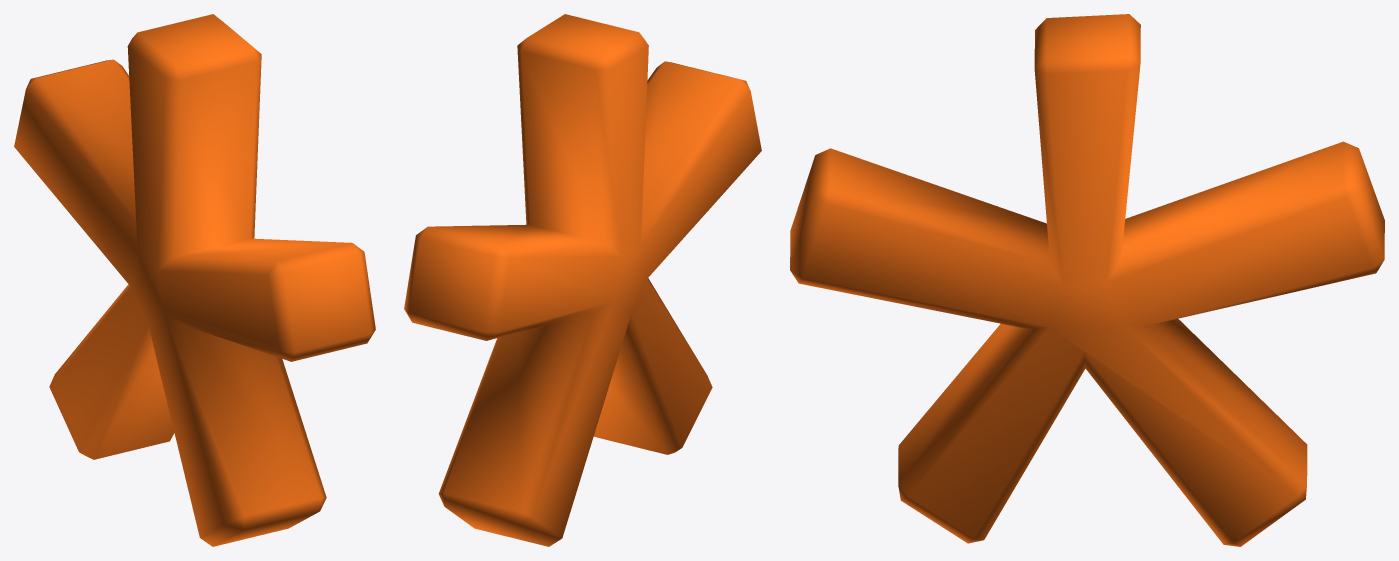
The model's file is Astriks.glb.
3 views of the same model, side by side, from view 1: azimuth 30°, elevation 25°; view 2: azimuth 150°, elevation 25°; view 3: azimuth 270°, elevation 25° (orthographic). The views are drawn at different scales.
Visible parts, largest first — view 1: V2; view 2: V2; view 3: V2.
Part boxes in pixels (x1,y1,x2,y2): V2: [14, 14, 375, 546]; V2: [404, 14, 761, 546]; V2: [790, 14, 1384, 546].
Size of the model in its own units: 0.3754 by 1.69 by 1.85.
